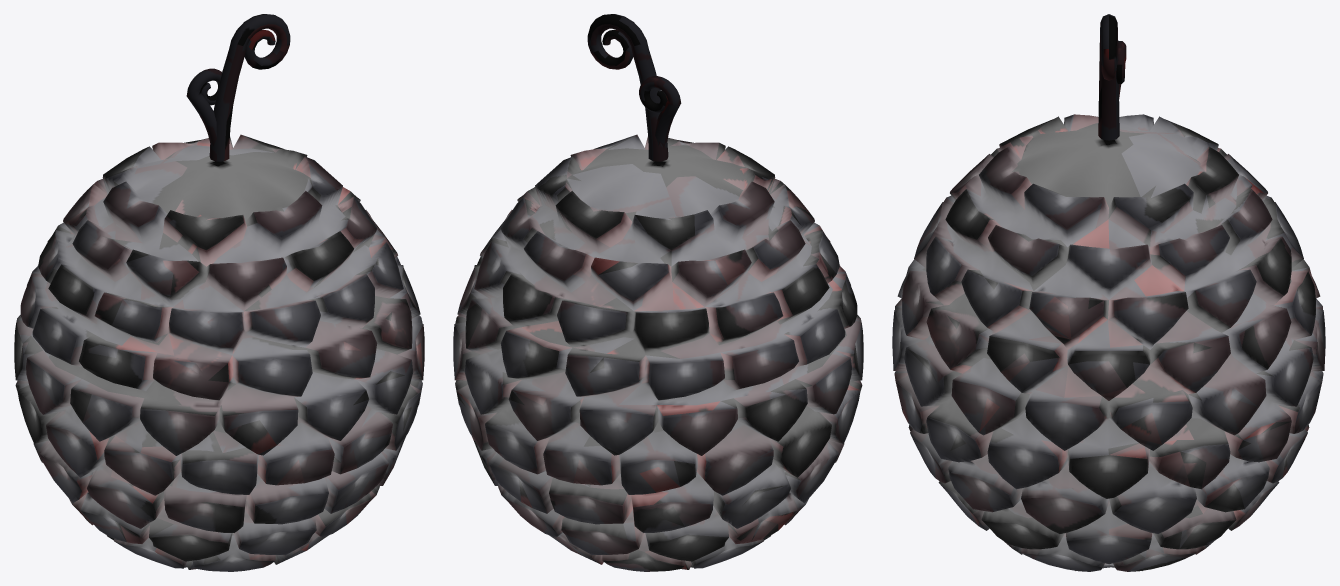
The model's file is black_dragon.fbx.
3 views of the same model, side by side, from view 1: azimuth 30°, elevation 25°; view 2: azimuth 150°, elevation 25°; view 3: azimuth 270°, elevation 25° (orthographic). The views are drawn at different scales.
Parts seen in each view (by area): view 1: BlackDragonFruit; view 2: BlackDragonFruit; view 3: BlackDragonFruit.
Part boxes in pixels (box(x1,y1,x2,y2)): BlackDragonFruit: box(14, 14, 424, 571); BlackDragonFruit: box(453, 14, 863, 571); BlackDragonFruit: box(892, 14, 1325, 571).
Bounding box in the file's own units: 2.02 × 2.88 × 2.02.
